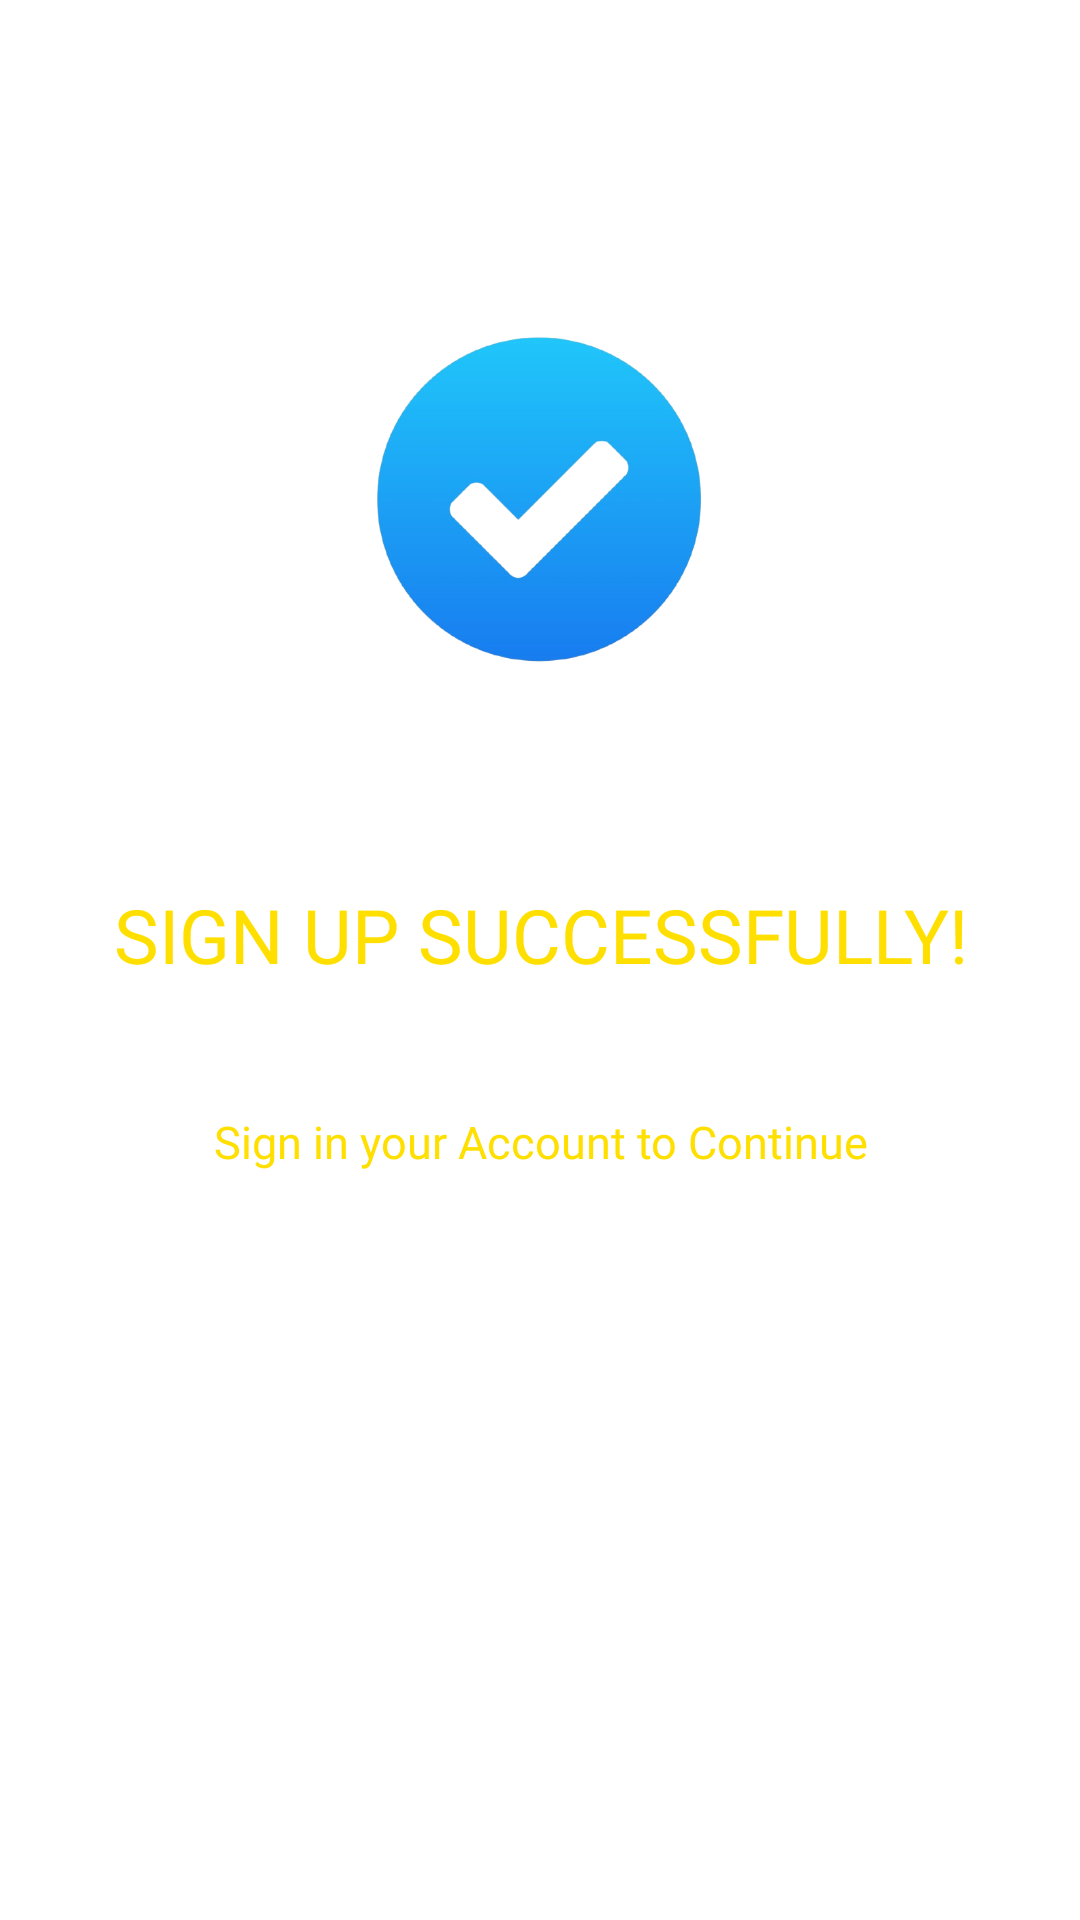

Where icons sit on this 1080x1920 app screen, as (x1, y1, x2, y2):
done: (377, 337, 701, 662)
